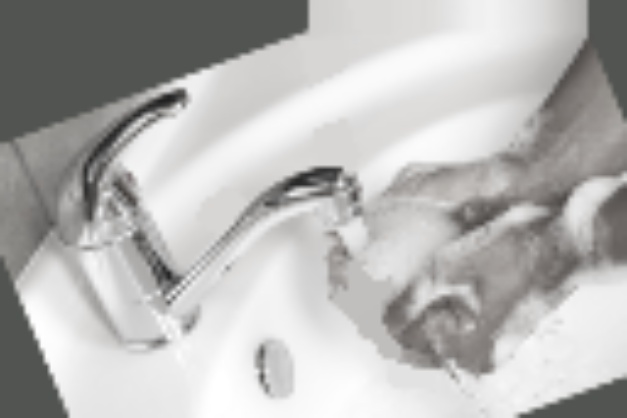washing hand: (75, 0, 626, 417)
